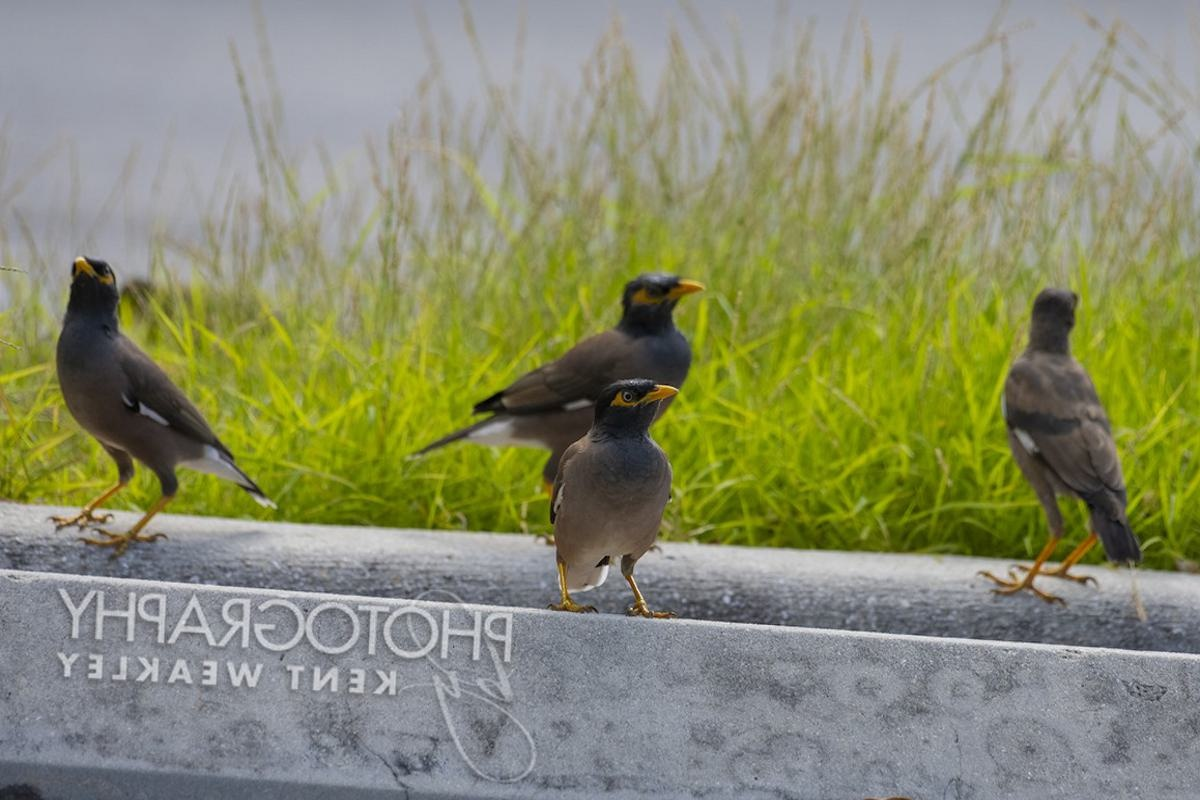myna: (47, 248, 240, 553), (523, 365, 709, 621), (476, 237, 717, 396)
